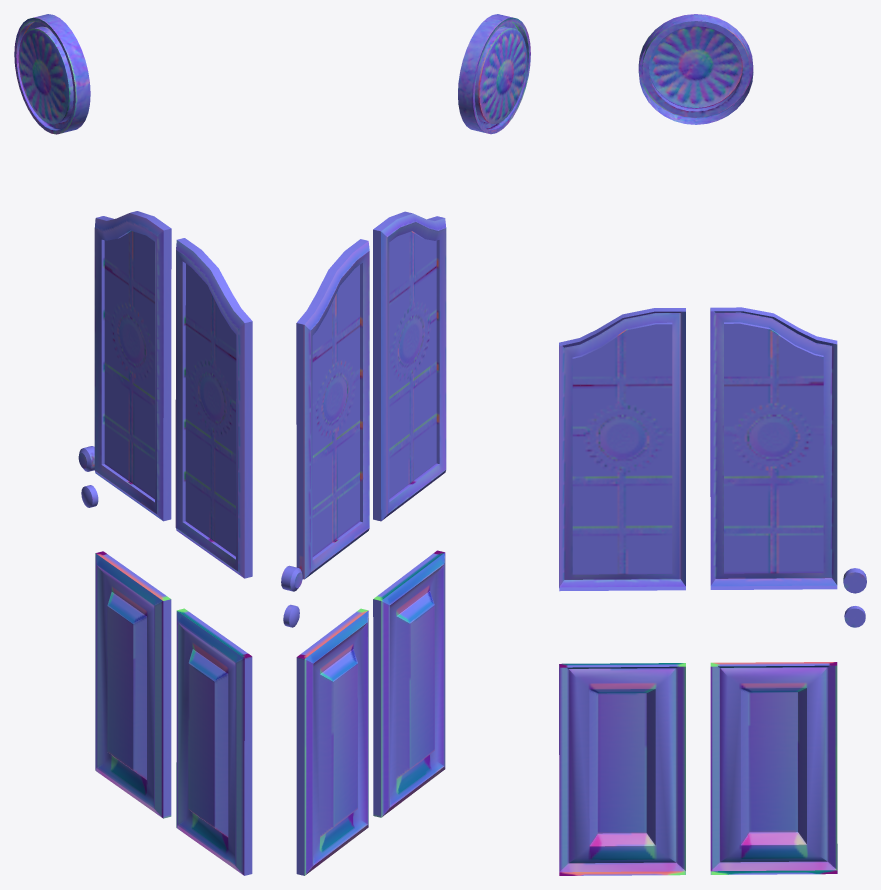
Rendered from doordeco_low.003.fbx.
3 views of the same model, side by side, from view 1: azimuth 30°, elevation 25°; view 2: azimuth 150°, elevation 25°; view 3: azimuth 270°, elevation 25° (orthographic). The views are drawn at different scales.
Visible parts, largest first — view 1: doordeco_low_003; view 2: doordeco_low_003; view 3: doordeco_low_003.
Part boxes in pixels (x1,y1,x2,y2): doordeco_low_003: (14, 14, 252, 875); doordeco_low_003: (281, 14, 530, 875); doordeco_low_003: (559, 14, 866, 875).
Size of the model in its own units: 108 by 611 by 214.
